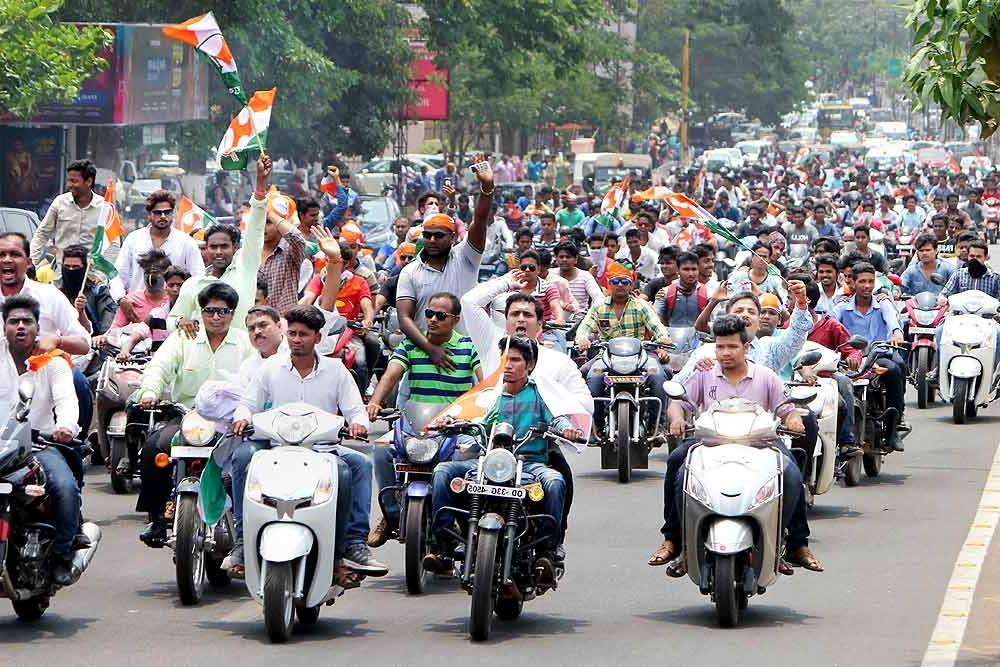nohelmet: (1, 297, 41, 354), (197, 283, 239, 337), (285, 304, 325, 359), (712, 317, 750, 372), (0, 231, 34, 289), (424, 292, 463, 339), (245, 305, 283, 353), (204, 224, 238, 272), (146, 189, 177, 233), (65, 159, 98, 200), (851, 263, 876, 302), (553, 240, 579, 275), (676, 251, 701, 287), (815, 253, 841, 287), (914, 233, 940, 266), (967, 239, 989, 270), (751, 241, 772, 272), (853, 222, 872, 252), (624, 228, 644, 255), (539, 212, 557, 236), (814, 202, 828, 223), (946, 192, 960, 211), (905, 193, 918, 211)
